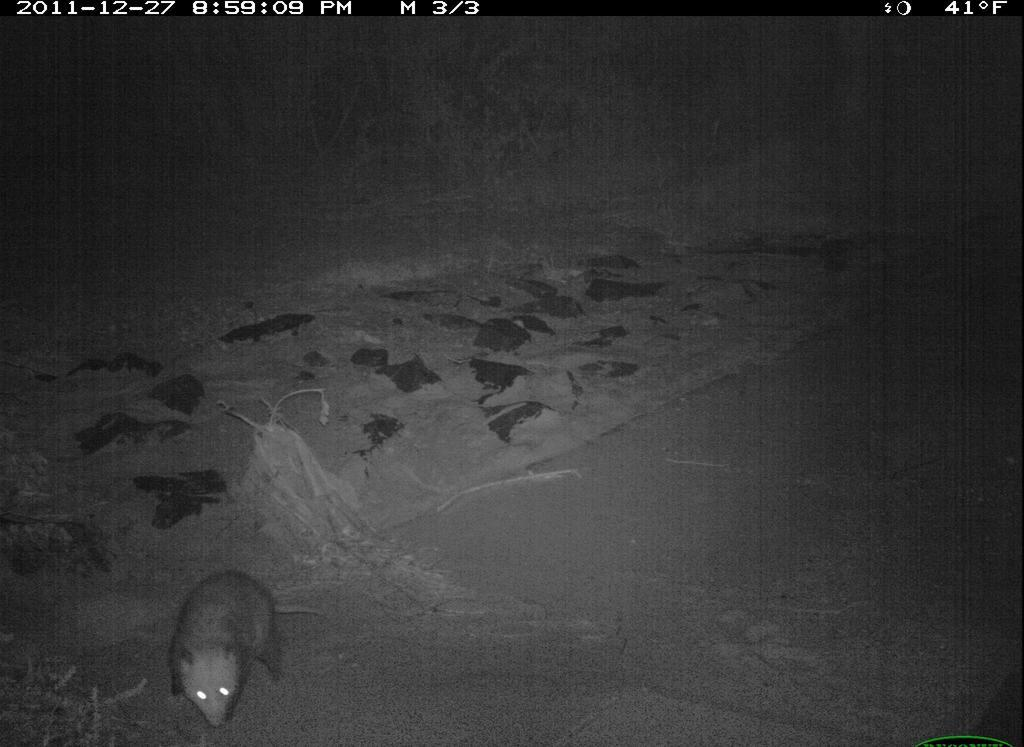opossum: (157, 565, 301, 737)
